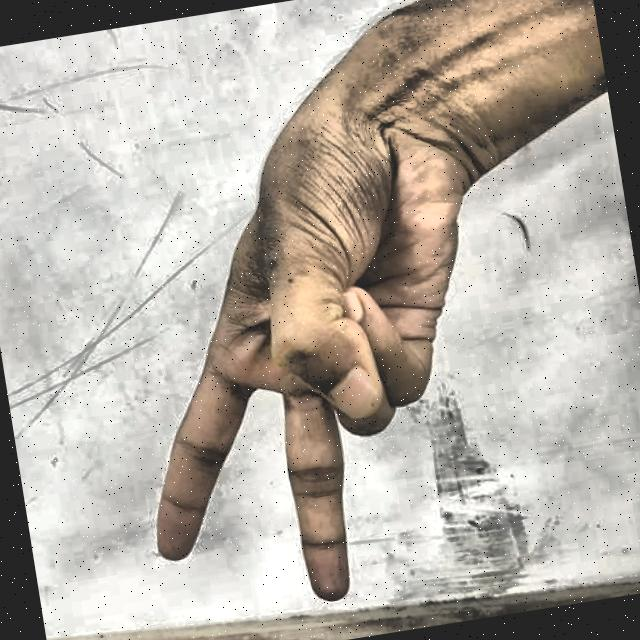Pa: (70, 36, 545, 640)
